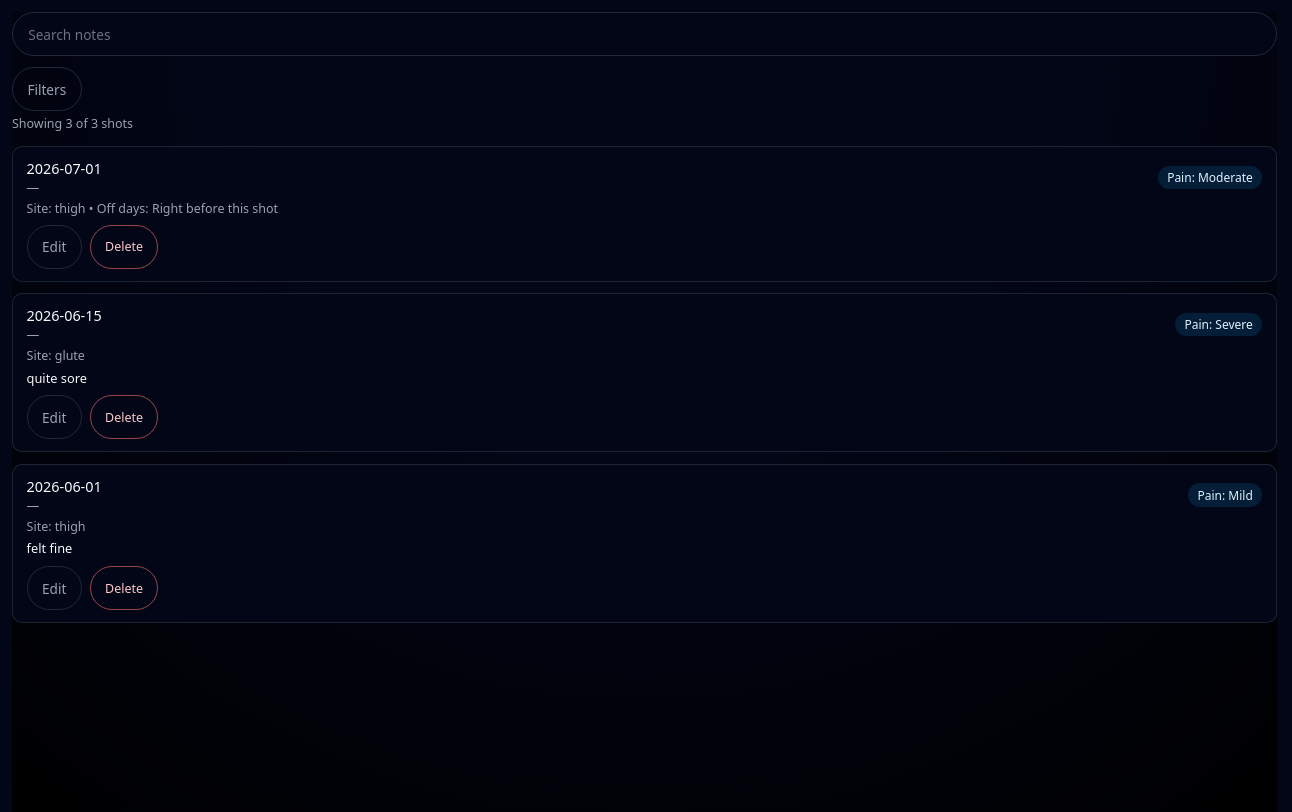
HistoryView › treats a cleared date bound as no constraint
This screenshot has width=1292, height=812.
Click the button "Filters".
click(47, 89)  # box [12, 67, 82, 111]
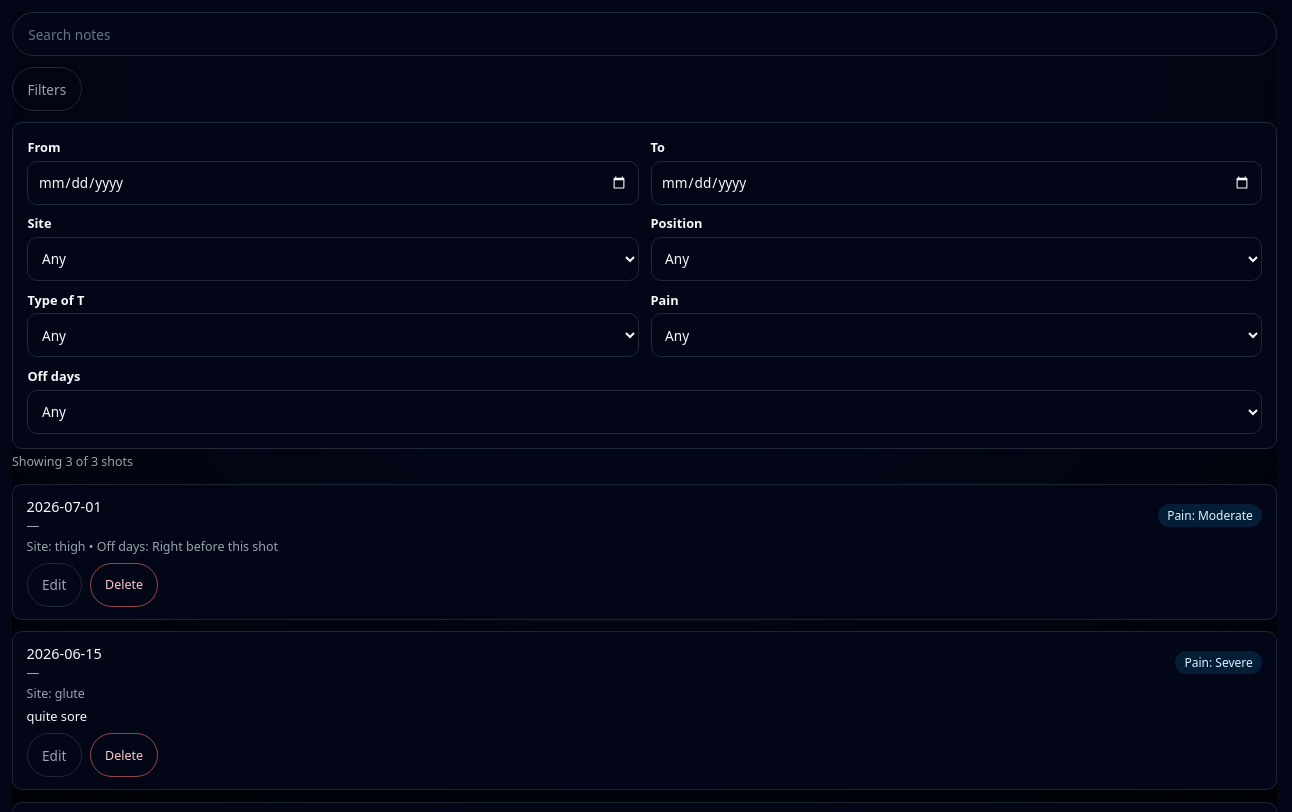
Type "2026-07-01" into the date field labelled "From".
click(333, 183); type("2026-07-01")  # box [27, 161, 638, 205]
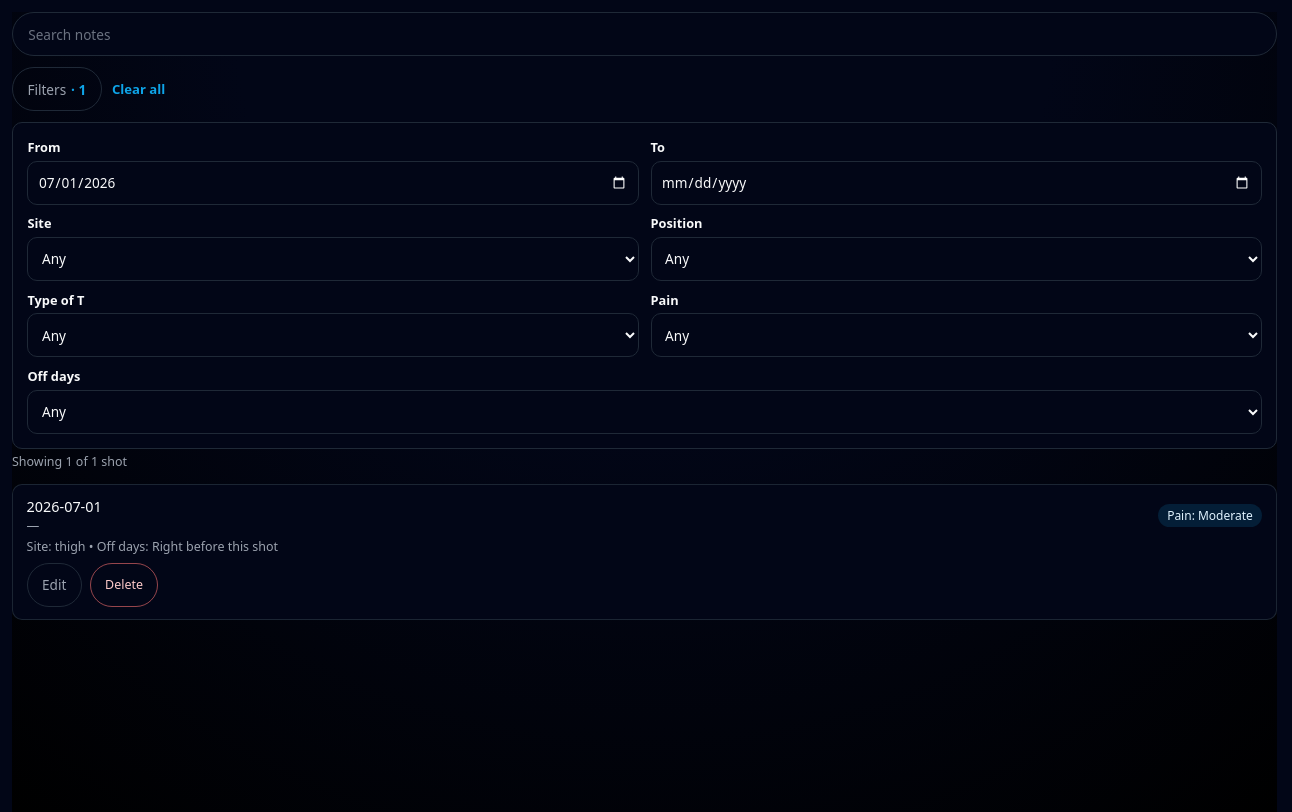
Check: the text "Showing 1 of 1 shot" is shown, box [12, 453, 127, 470]
Clear the date field labelled "From" at (333, 183), box [27, 161, 638, 205]
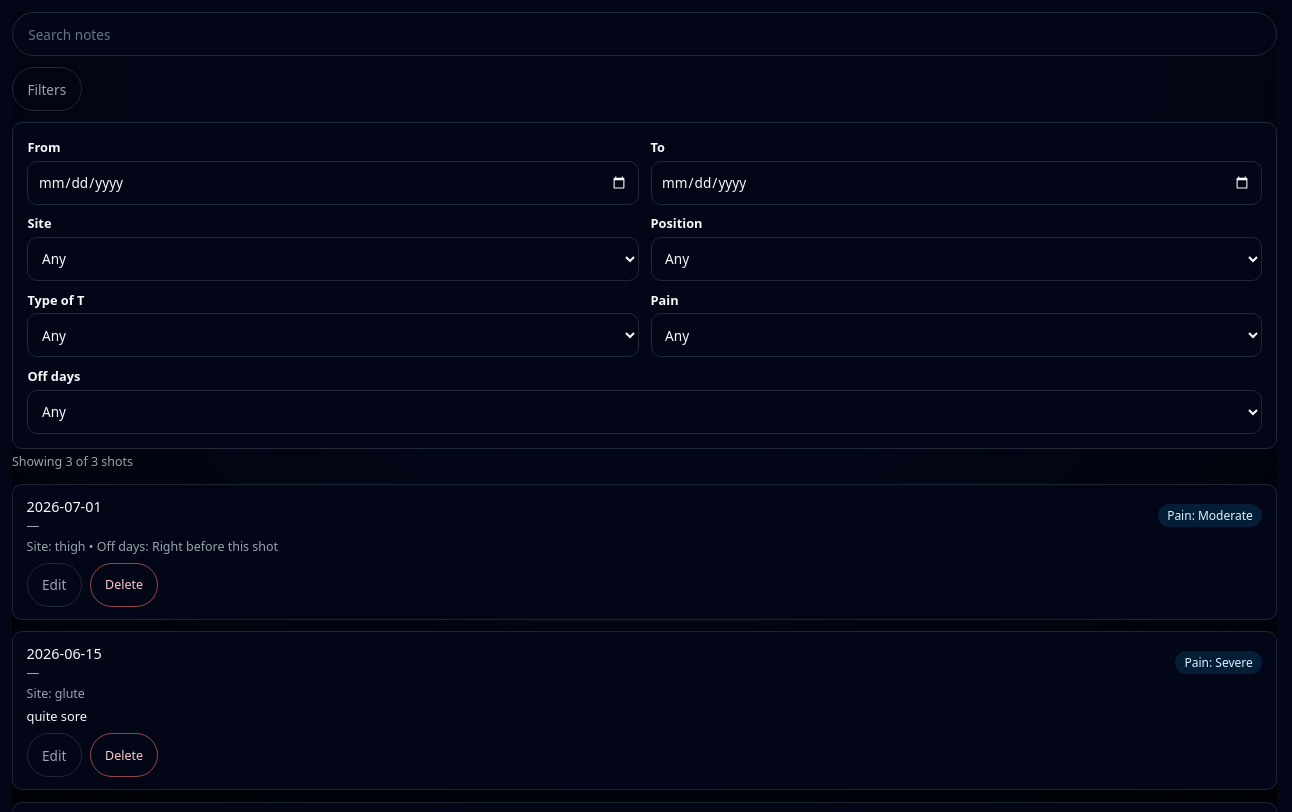
Check: the text "Showing 3 of 3 shots" is shown, box [12, 453, 133, 470]
Type "2026-06-01" into the date field labelled "To".
click(956, 183); type("2026-06-01")  # box [650, 161, 1262, 205]
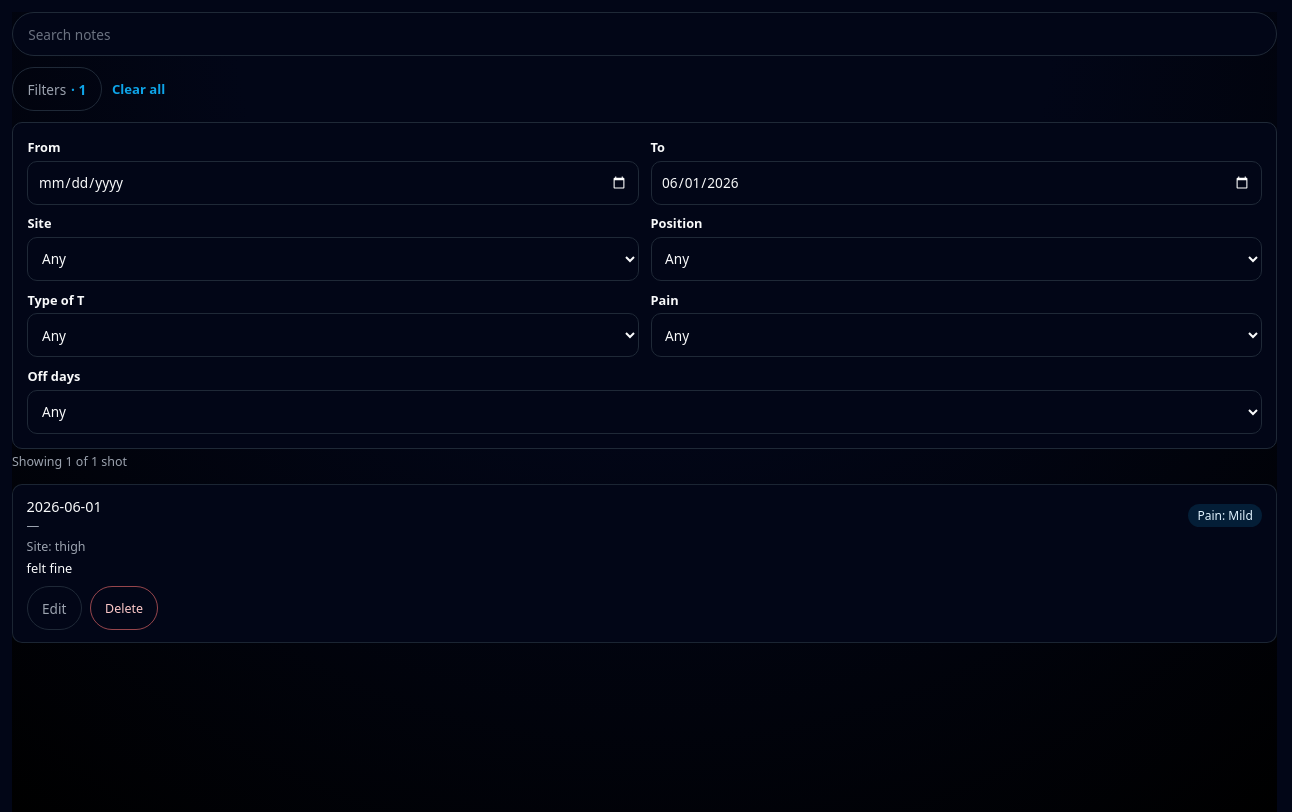
Check: the text "Showing 1 of 1 shot" is shown, box [12, 453, 127, 470]
Clear the date field labelled "To" at (956, 183), box [650, 161, 1262, 205]
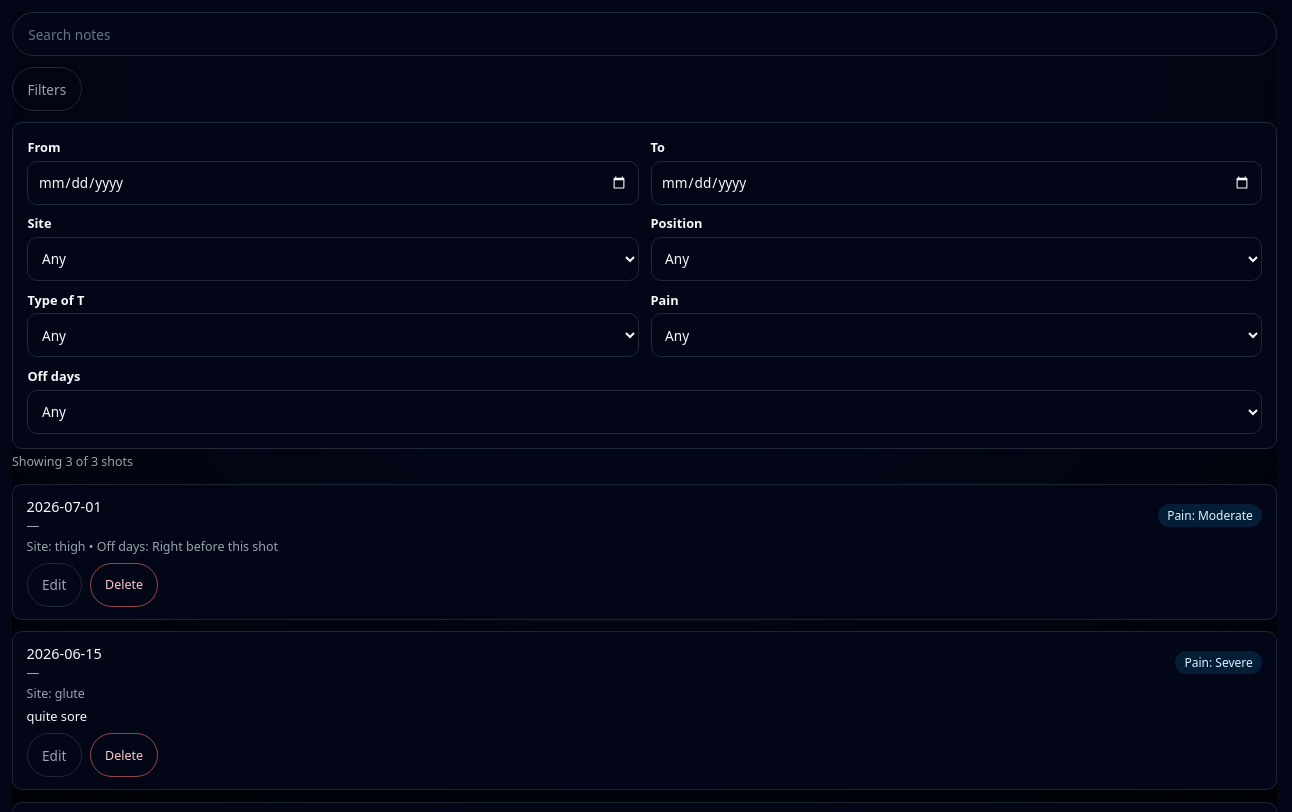
Check: the text "Showing 3 of 3 shots" is shown, box [12, 453, 133, 470]
